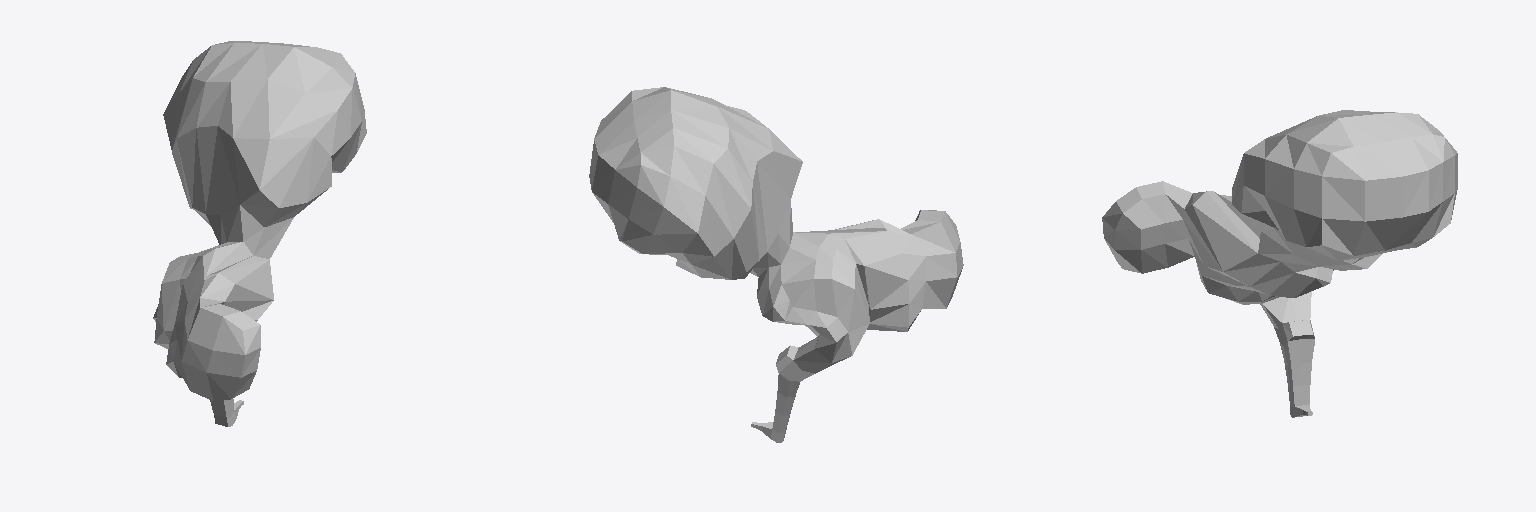
The model's file is LIGHTOUT.obj.
3 views of the same model, side by side, from view 1: azimuth 30°, elevation 25°; view 2: azimuth 150°, elevation 25°; view 3: azimuth 270°, elevation 25° (orthographic).
Parts seen in each view (by area): view 1: Cube.006; view 2: Cube.006; view 3: Cube.006.
Boxes of the visible parts, <box> form: Cube.006: <box>153,41,366,426</box>; Cube.006: <box>589,87,963,442</box>; Cube.006: <box>1102,110,1457,417</box>.
Bounding box in the file's own units: 12.1 × 14.99 × 14.14.